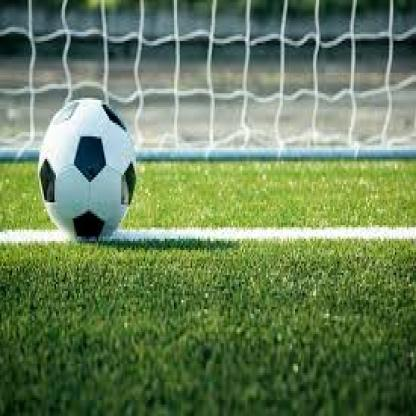ball: (38, 98, 137, 242)
